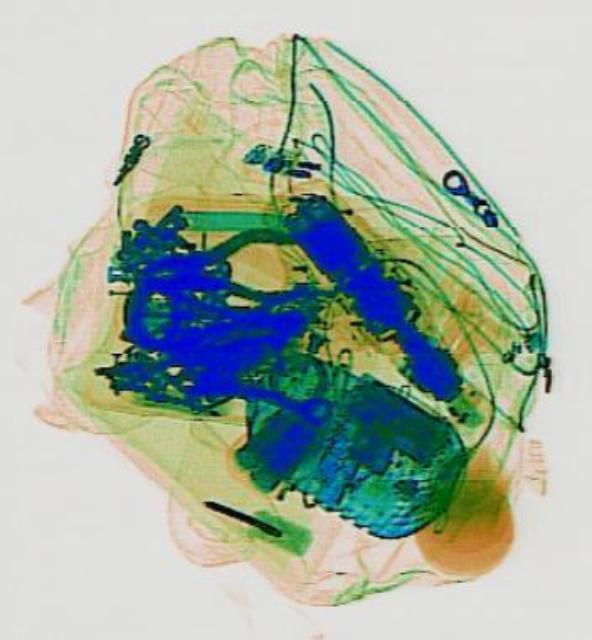Pliers: (137, 223, 309, 309)
Wrench: (175, 364, 329, 426)
